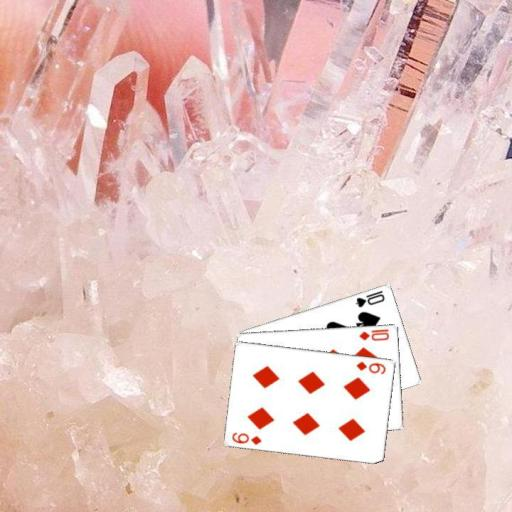10D: (356, 326, 391, 341)
10S: (353, 287, 386, 309)
6D: (354, 359, 388, 376), (229, 429, 263, 446)
